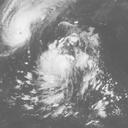cyclone: (37, 40, 111, 119), (4, 2, 33, 48)
